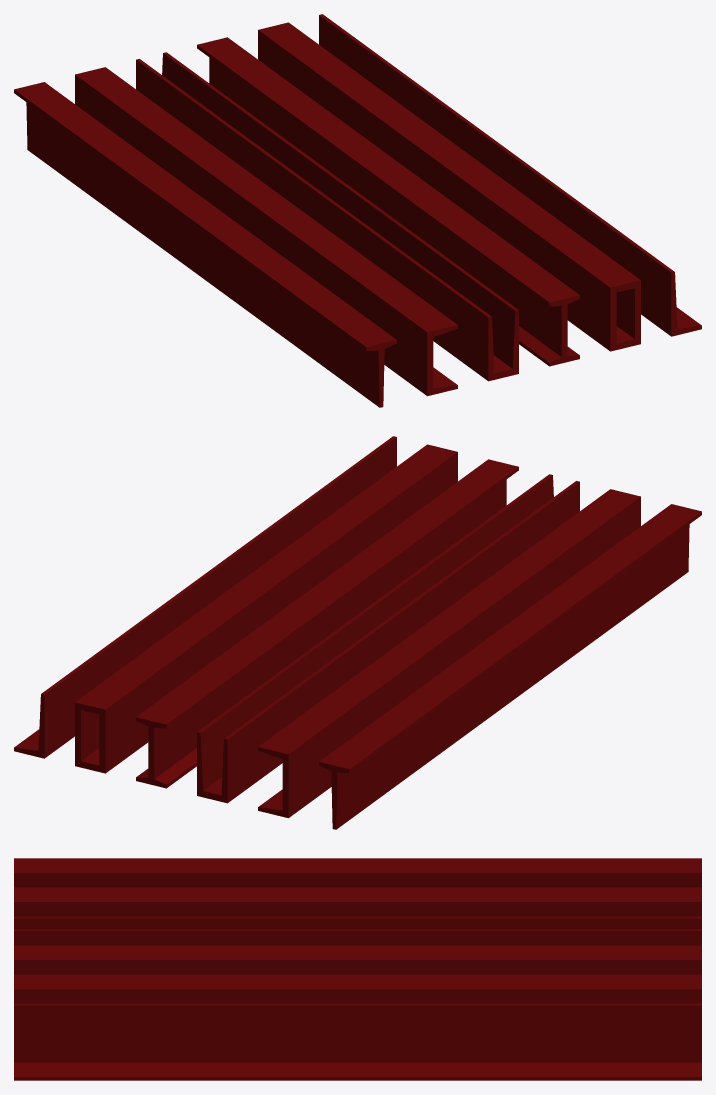
Rendered from vigas.fbx.
3 views of the same model, one above another, from view 1: azimuth 30°, elevation 25°; view 2: azimuth 150°, elevation 25°; view 3: azimuth 270°, elevation 25° (orthographic). The views are drawn at different scales.
Visible parts, largest first — view 1: beams:Mesh; view 2: beams:Mesh; view 3: beams:Mesh.
Part boxes in pixels (left/top/right/bottom): beams:Mesh: left=14, top=14, right=701, bottom=407; beams:Mesh: left=14, top=436, right=701, bottom=829; beams:Mesh: left=14, top=858, right=701, bottom=1080.
Size of the model in its own units: 1.7 by 0.3093 by 3.09.
